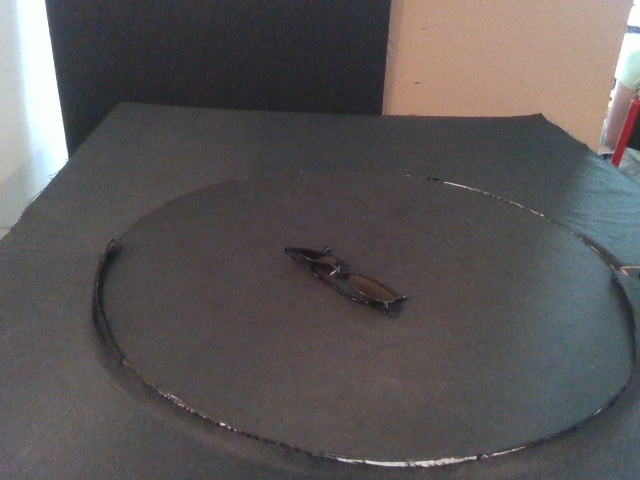glasses: (282, 244, 409, 315)
